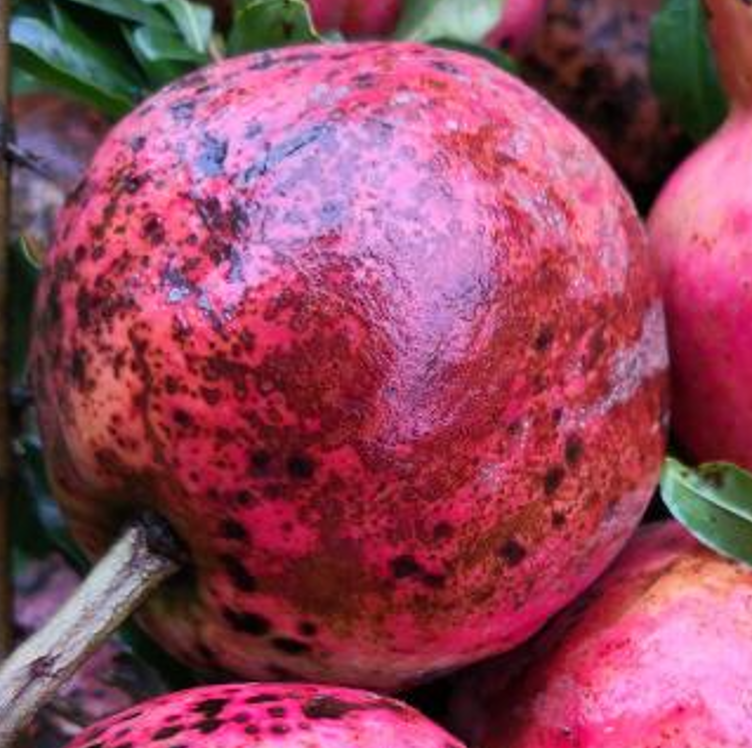pomegranate_C: (25, 41, 668, 692)
